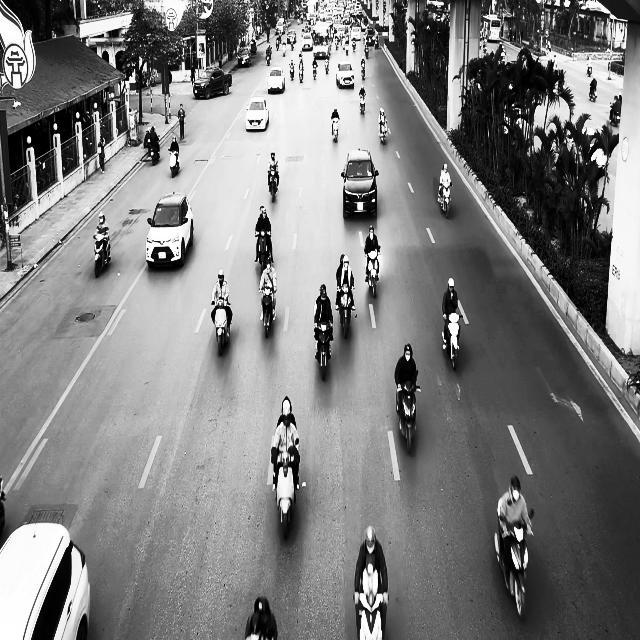bus: (482, 13, 502, 42)
car: (0, 521, 91, 639), (145, 192, 194, 268), (341, 148, 378, 218), (192, 68, 232, 99), (245, 96, 269, 131), (267, 66, 285, 93), (336, 61, 354, 88), (237, 46, 251, 67)
motorbike: (494, 499, 534, 620), (271, 444, 300, 540), (396, 379, 420, 454), (210, 300, 232, 356), (314, 320, 333, 380), (442, 313, 461, 370), (336, 285, 355, 338), (259, 286, 276, 338), (364, 247, 381, 298), (93, 233, 111, 278), (255, 230, 272, 272), (438, 182, 452, 218), (267, 166, 279, 202), (168, 149, 180, 178), (148, 138, 160, 166), (378, 119, 388, 144), (331, 117, 339, 142), (358, 92, 366, 114), (589, 86, 597, 102), (298, 63, 304, 82), (289, 62, 295, 80), (312, 63, 317, 79)
